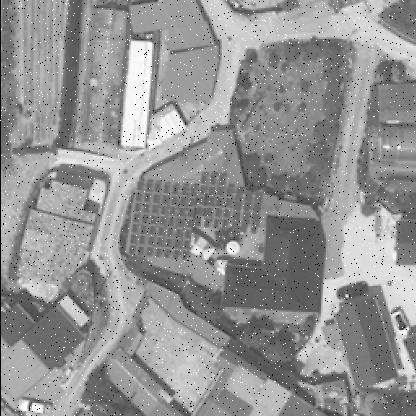solar-pv-panel: (127, 173, 262, 260)
